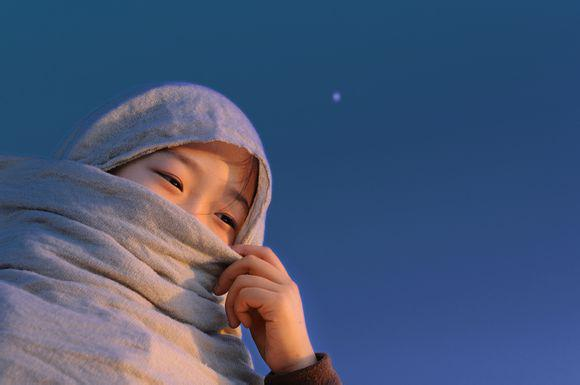OK: (104, 148, 256, 300)
